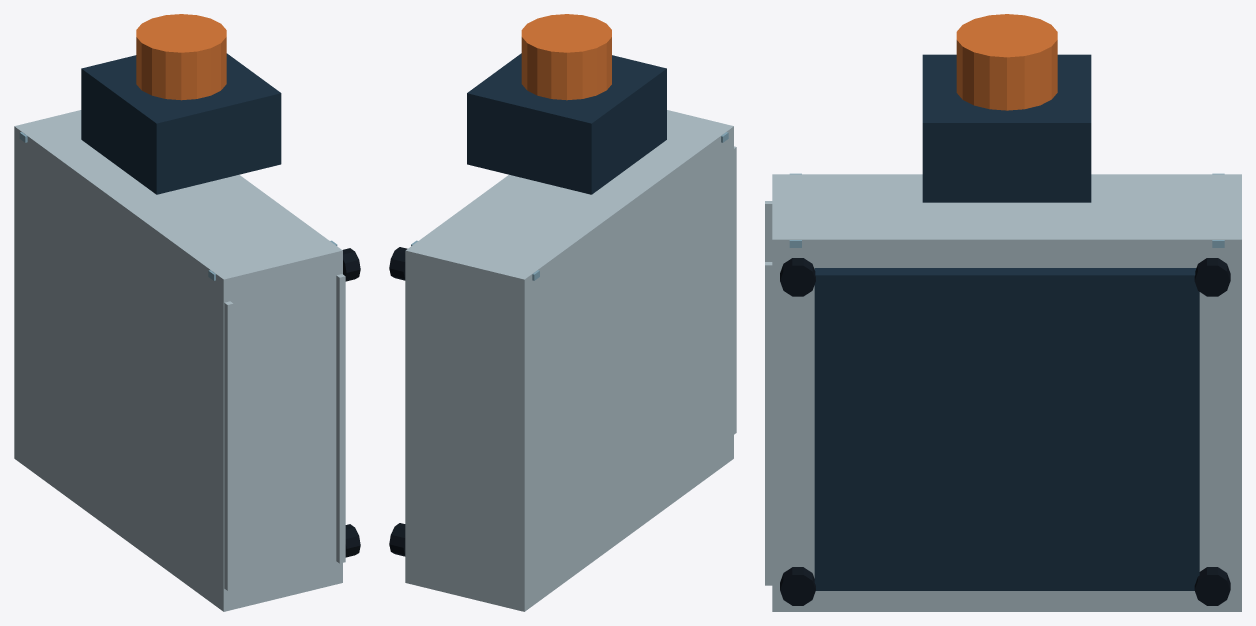
File: 11_L72_LoadLockGateValve.fbx
3 views of the same model, side by side, from view 1: azimuth 30°, elevation 25°; view 2: azimuth 150°, elevation 25°; view 3: azimuth 270°, elevation 25° (orthographic). The views are drawn at different scales.
Parts seen in each view (by area): view 1: LoadLockGateValve; view 2: LoadLockGateValve; view 3: LoadLockGateValve.
Boxes of the visible parts, x1=… form: LoadLockGateValve: x1=14, y1=14, x2=360, y2=611; LoadLockGateValve: x1=389, y1=14, x2=736, y2=611; LoadLockGateValve: x1=765, y1=14, x2=1241, y2=611.
Bounding box in the file's own units: 50.26 × 164 × 130.
